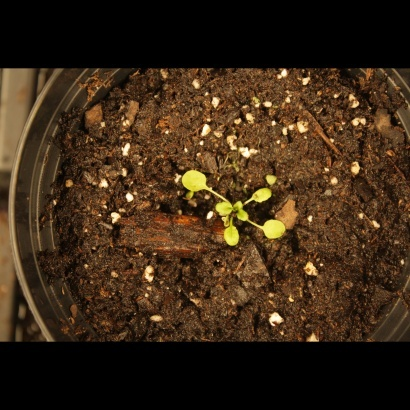leaf: (178, 164, 211, 196), (259, 216, 293, 244), (218, 223, 246, 256), (251, 181, 282, 208), (212, 196, 235, 219)
